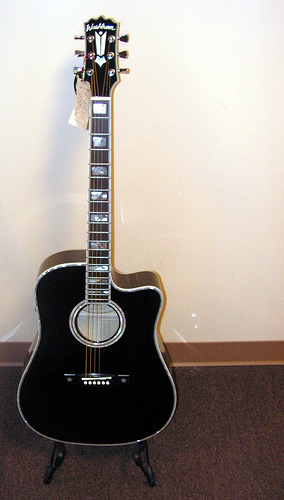guitar: (13, 17, 179, 448)
